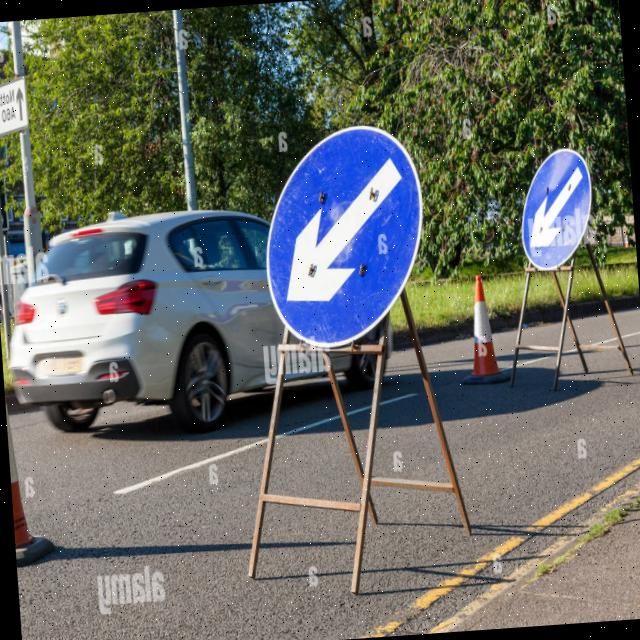compulsory_keep_right: (246, 110, 439, 364), (502, 140, 618, 281)
